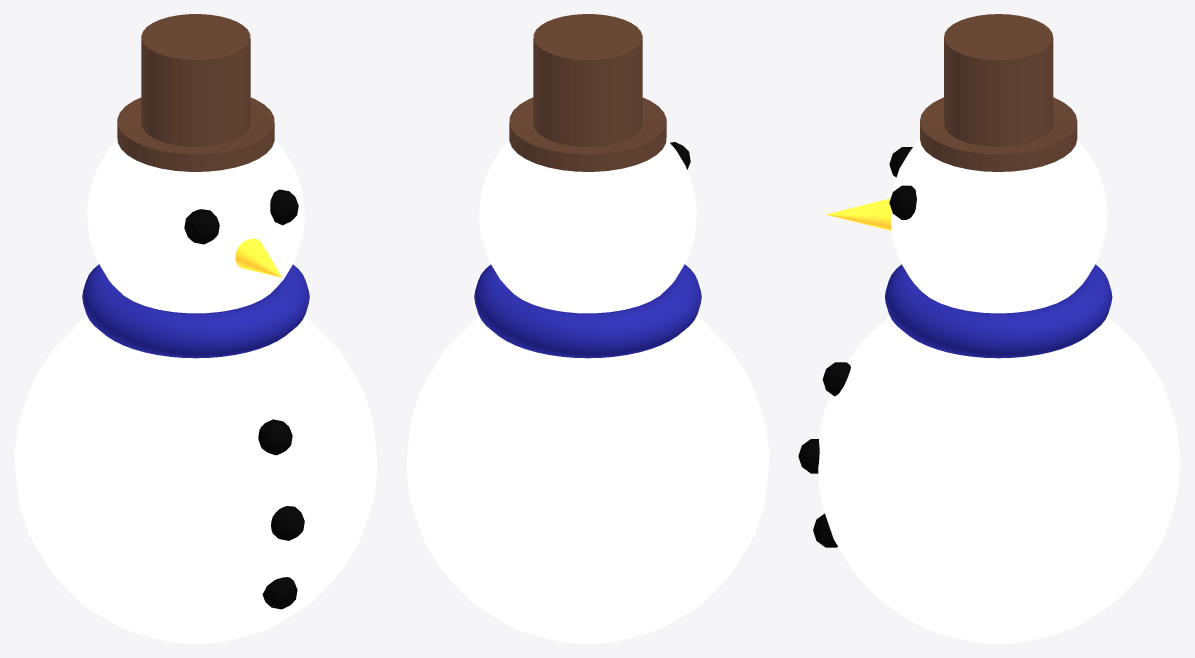
Rendered from snowman.glb.
3 views of the same model, side by side, from view 1: azimuth 30°, elevation 25°; view 2: azimuth 150°, elevation 25°; view 3: azimuth 270°, elevation 25° (orthographic).
Parts seen in each view (by area): view 1: Cuerpo, Cabeza, Sombrero, Bufanda, Nariz, OjoDerecho, Boton1, Boton2, Boton3, OjoIzquierdo; view 2: Cuerpo, Cabeza, Sombrero, Bufanda; view 3: Cuerpo, Cabeza, Sombrero, Bufanda, Nariz, OjoIzquierdo, Boton1, Boton2.
Boxes of the visible parts, box(x1,y1,x2,y2) form: Cuerpo: box(14, 316, 377, 643); Cabeza: box(87, 140, 304, 313); Sombrero: box(117, 14, 274, 171); Bufanda: box(82, 264, 309, 358); Nariz: box(235, 238, 281, 277); OjoDerecho: box(184, 209, 219, 244); Boton1: box(258, 419, 292, 455); Boton2: box(271, 506, 304, 540); Boton3: box(262, 577, 297, 609); OjoIzquierdo: box(270, 189, 298, 225); Cuerpo: box(406, 316, 769, 643); Cabeza: box(479, 140, 696, 313); Sombrero: box(509, 14, 666, 171); Bufanda: box(474, 264, 701, 358); Cuerpo: box(818, 316, 1180, 643); Cabeza: box(891, 139, 1107, 313); Sombrero: box(920, 14, 1077, 171); Bufanda: box(885, 264, 1112, 358); Nariz: box(826, 198, 891, 230); OjoIzquierdo: box(889, 185, 916, 219); Boton1: box(822, 362, 850, 396); Boton2: box(798, 439, 819, 473).
Size of the model in its own units: 2 by 3.58 by 2.1.
